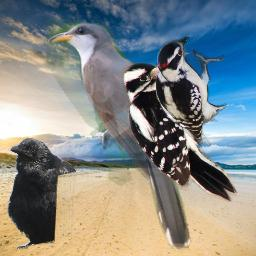Crow: (5, 137, 76, 249)
Cuckoo: (47, 19, 196, 254)
Woodpecker: (122, 62, 238, 204), (156, 37, 227, 146)
